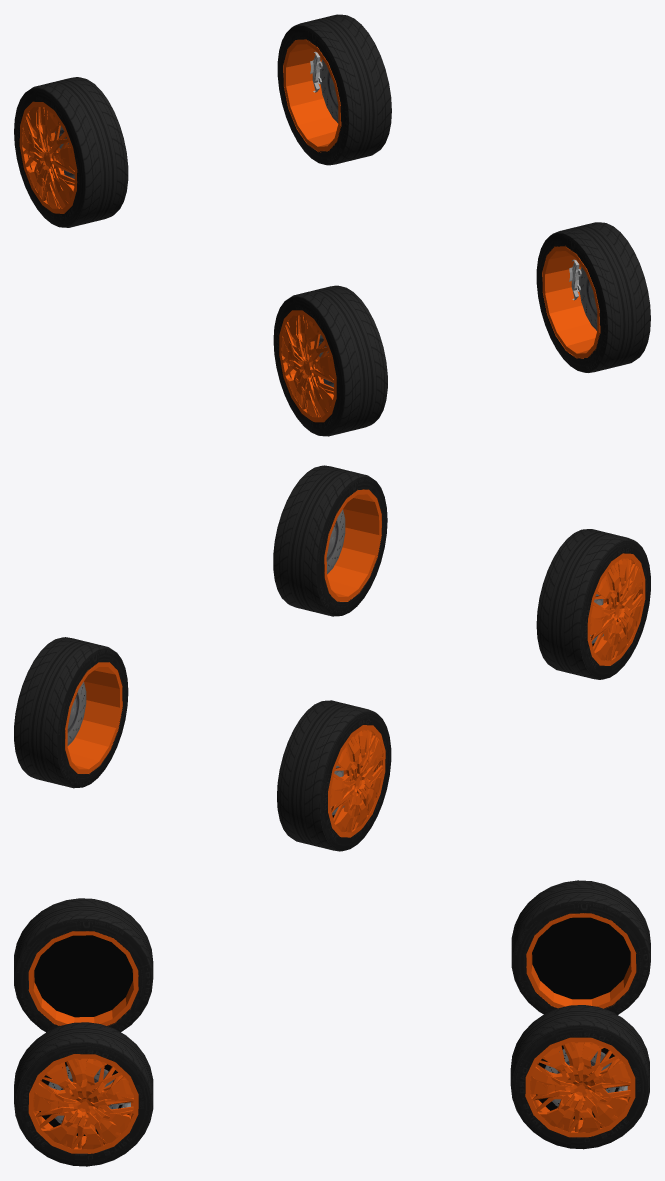
Rendered from Rims.fbx.
3 renders of one model, top to bottom at view 1: azimuth 30°, elevation 25°; view 2: azimuth 150°, elevation 25°; view 3: azimuth 270°, elevation 25°, orthographic. The views are drawn at different scales.
Parts seen in each view (by area): view 1: FL, RL, rim05 (×4), FR, RR, rim03 (×2), rim02 (×2), rim04 (×2); view 2: rim05 (×4), FL, RL, RR, FR, rim03 (×2), rim02 (×2), rim04 (×2); view 3: RR, FR, FL, RL, rim05 (×4), rim03 (×2), rim02 (×2), rim04 (×2), rim01 (×2).
Part boxes in pixels (x1,y1,x2,y2): FL: [536, 222, 650, 372]; RL: [277, 14, 391, 165]; rim05 (×4): [23, 39, 599, 421]; FR: [273, 285, 387, 436]; RR: [14, 77, 128, 227]; rim03 (×2): [19, 101, 336, 421]; rim02 (×2): [22, 107, 336, 417]; rim04 (×2): [25, 123, 333, 411]; rim05 (×4): [65, 489, 642, 834]; FL: [273, 465, 387, 616]; RL: [14, 637, 128, 788]; RR: [277, 700, 391, 851]; FR: [536, 529, 650, 679]; rim03 (×2): [328, 553, 645, 837]; rim02 (×2): [328, 558, 642, 835]; rim04 (×2): [330, 559, 641, 829]; RR: [511, 880, 650, 1014]; FR: [14, 898, 153, 1032]; FL: [14, 1022, 153, 1166]; RL: [510, 1005, 649, 1149]; rim05 (×4): [28, 913, 636, 1147]; rim03 (×2): [29, 1037, 635, 1153]; rim02 (×2): [33, 1042, 630, 1149]; rim04 (×2): [35, 1049, 630, 1148]; rim01 (×2): [28, 1041, 630, 1153].
Bounding box in the file's own units: 75.32 × 34.39 × 137.
3 materials, 2 textured.
